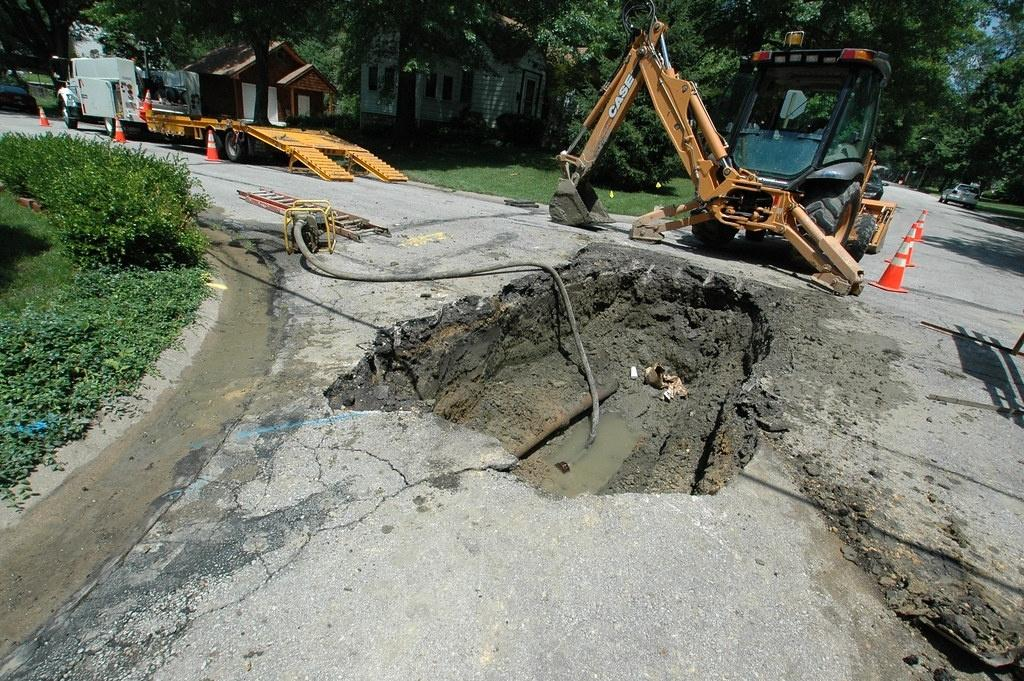pothole: (325, 269, 769, 497)
